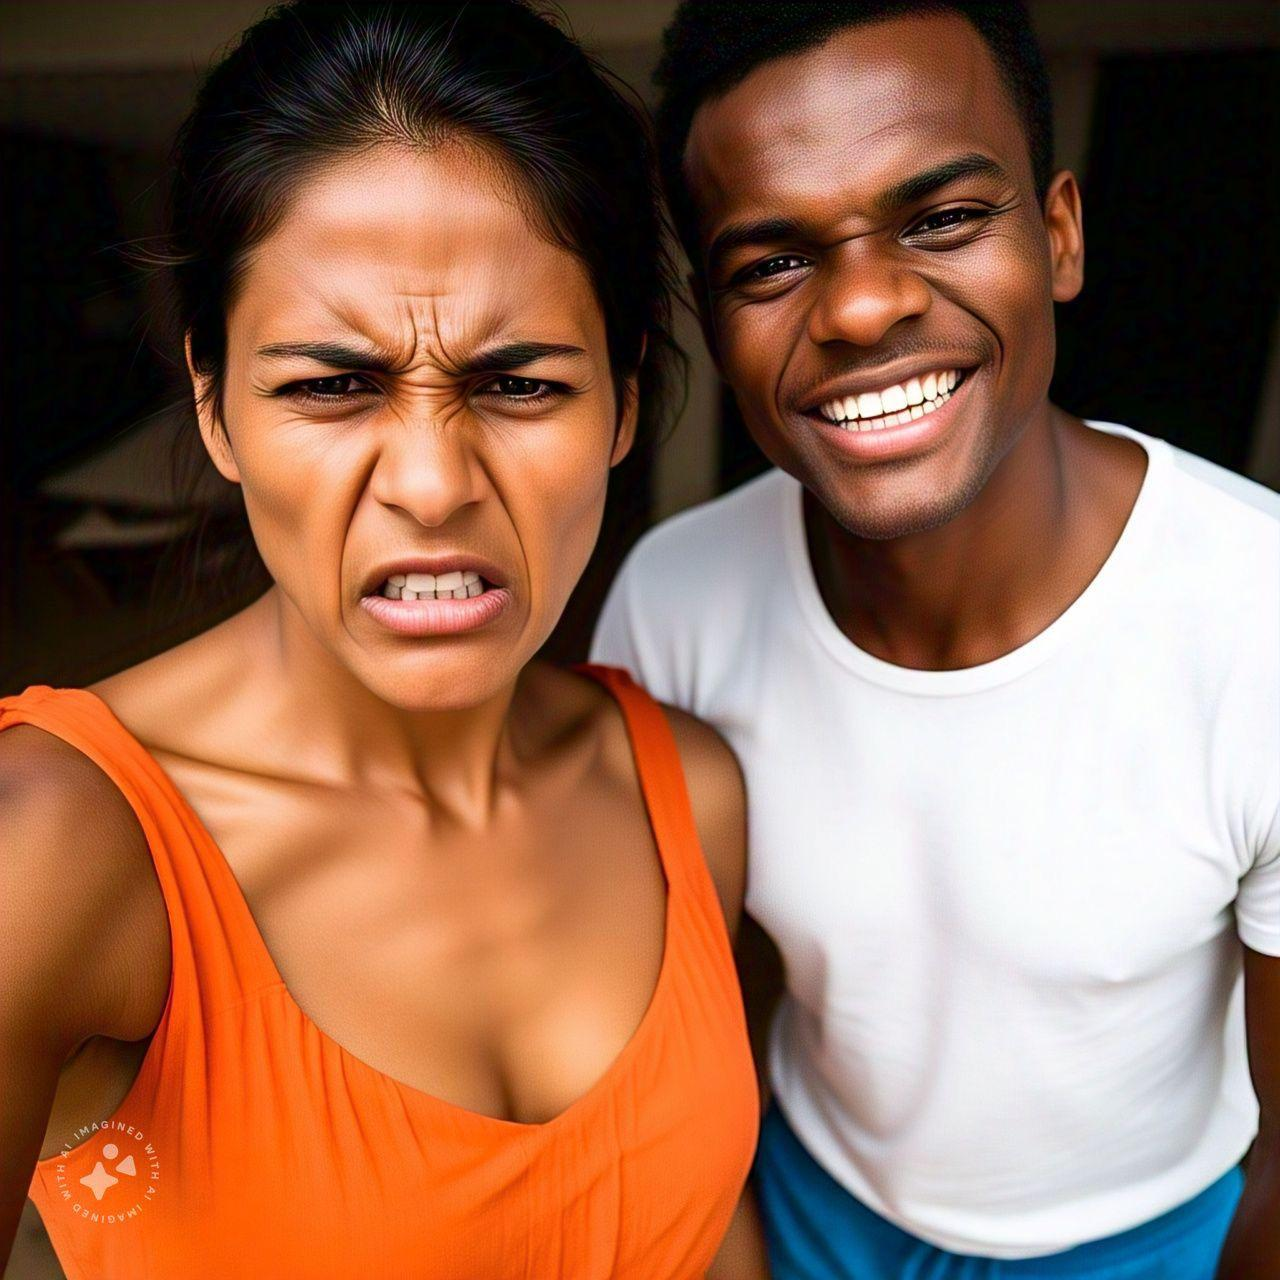feliz: (686, 46, 1098, 522)
raiva: (195, 122, 651, 706)
